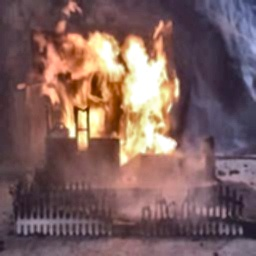fire: (37, 4, 183, 161)
